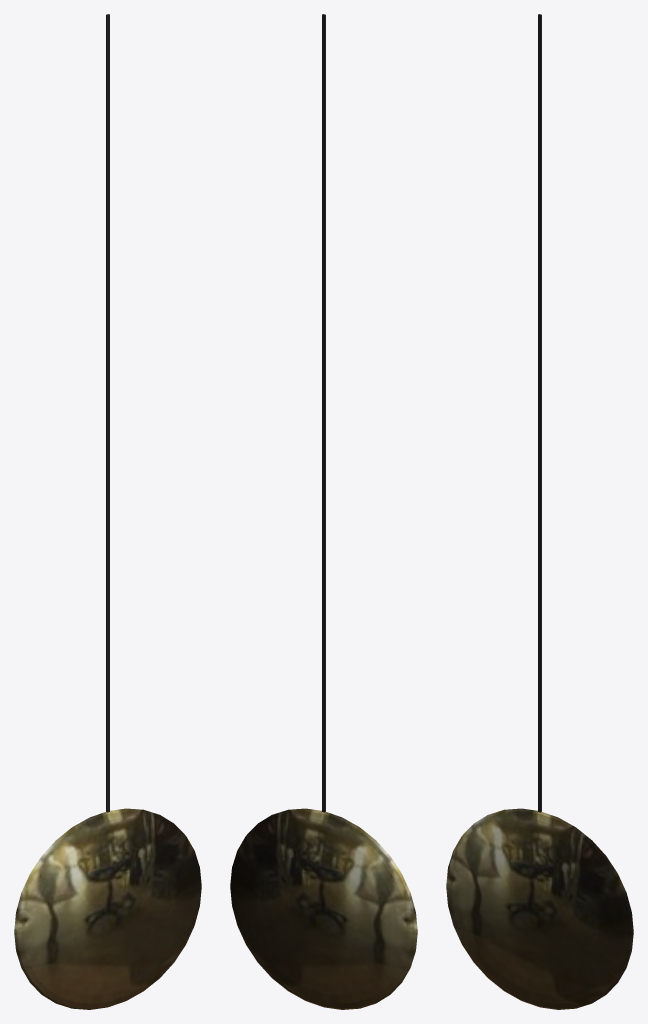
File: klepel.glb
The picture shows the model from 3 angles, left to right: view 1: azimuth 30°, elevation 25°; view 2: azimuth 150°, elevation 25°; view 3: azimuth 330°, elevation 25°; orthographic projection.
Parts seen in each view (by area): view 1: Sphere.001; view 2: Sphere.001; view 3: Sphere.001.
Boxes of the visible parts, bbox=[...] form: Sphere.001: bbox=[14, 14, 201, 1009]; Sphere.001: bbox=[230, 14, 417, 1009]; Sphere.001: bbox=[446, 14, 633, 1009].
Bounding box in the file's own units: 1.04 × 5.28 × 0.1033.
2 materials, 1 textured.
